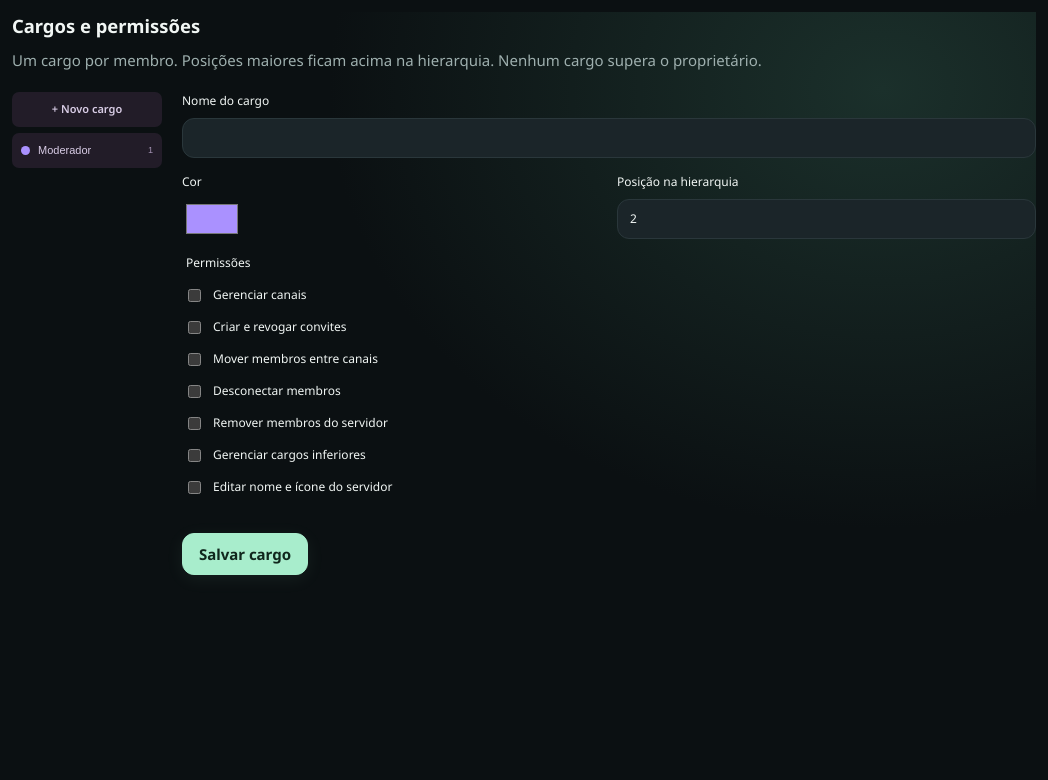
Test: edição de cargos › erro de autorização aparece junto do formulário e preserva o preenchimento
Type "Equipe" into the field labelled "Nome do cargo" at (609, 138), box [182,118,1036,158]
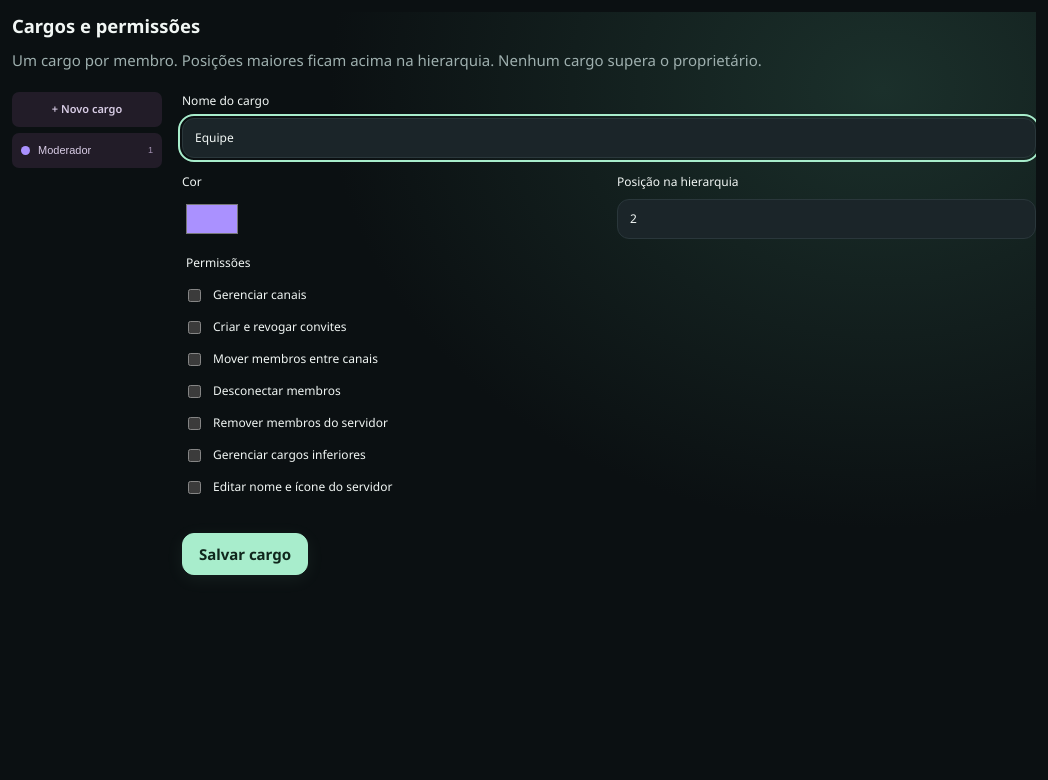
Click the button "Salvar cargo" at (245, 554), box [182,533,308,575]
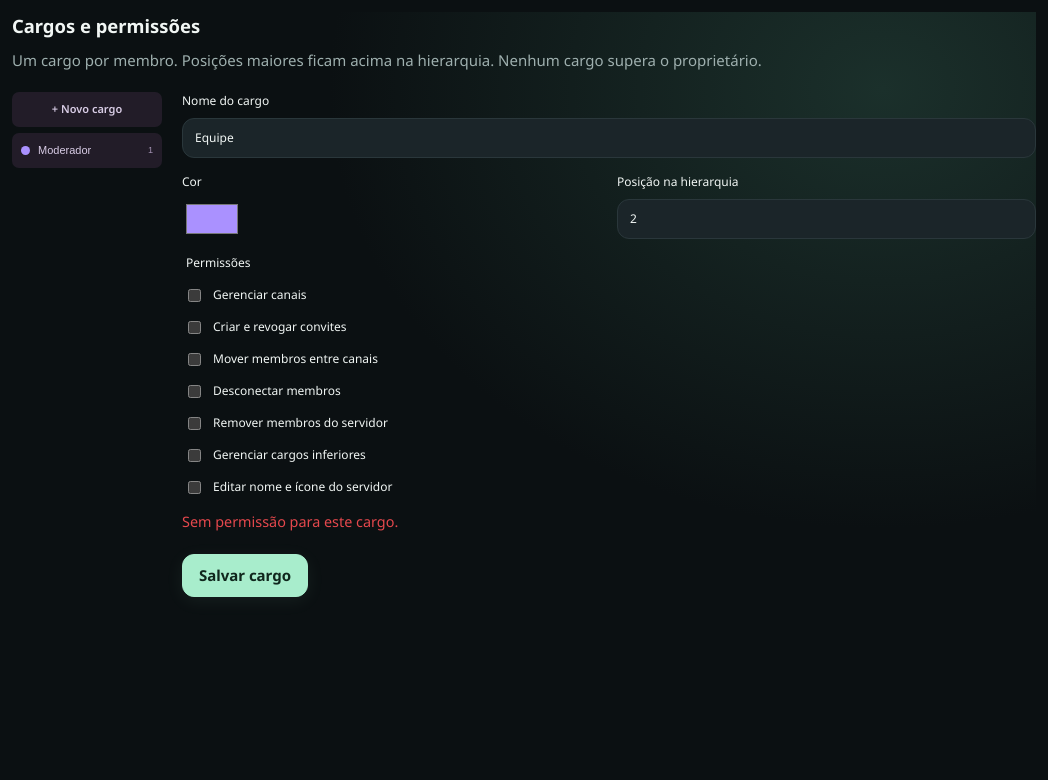
Expected: the message shows "Sem permissão", [182,512,398,531]
